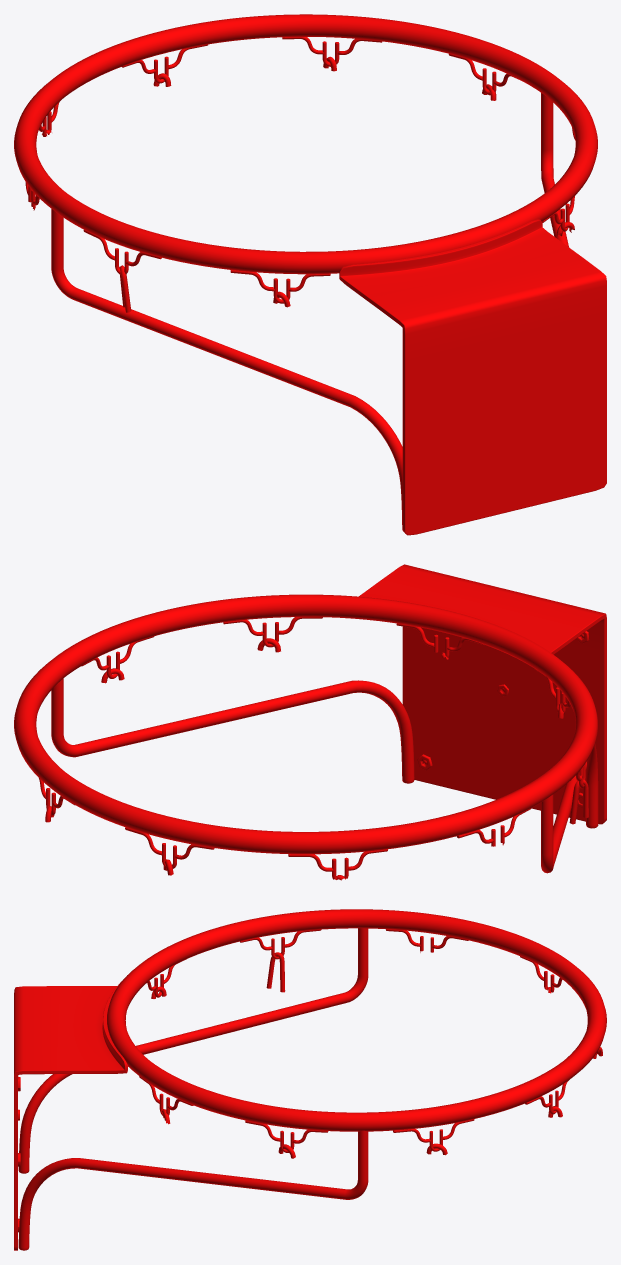
File: aro.obj
3 views of the same model, one above another, from view 1: azimuth 30°, elevation 25°; view 2: azimuth 150°, elevation 25°; view 3: azimuth 270°, elevation 25° (orthographic). The views are drawn at different scales.
Parts seen in each view (by area): view 1: obj:holder_1__1, obj:Basketball_1_43; view 2: obj:Basketball_1_43, obj:holder_1__1; view 3: obj:Basketball_1_43, obj:holder_1__1.
Part boxes in pixels (x1=…): obj:holder_1__1: x1=339, y1=219, x2=606, y2=535; obj:Basketball_1_43: x1=14, y1=14, x2=597, y2=529; obj:Basketball_1_43: x1=14, y1=594, x2=598, y2=880; obj:holder_1__1: x1=359, y1=564, x2=606, y2=824; obj:Basketball_1_43: x1=18, y1=909, x2=606, y2=1250; obj:holder_1__1: x1=14, y1=981, x2=128, y2=1250.
Bounding box in the file's own units: 218 × 95.46 × 258.
